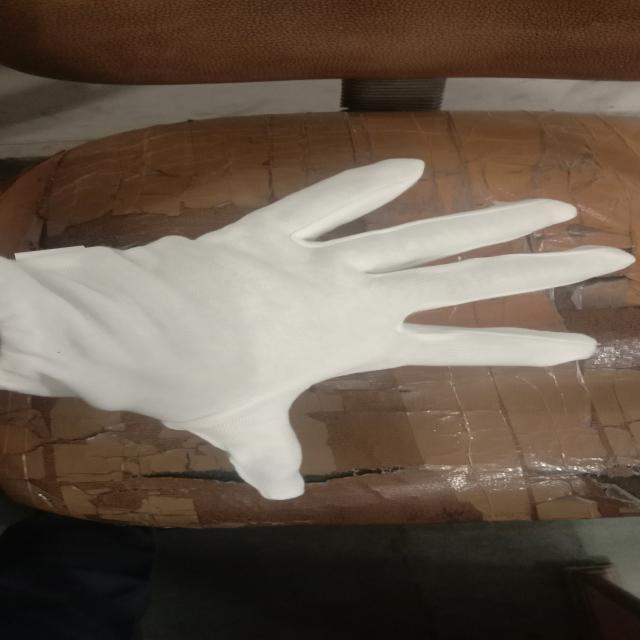glove_hand: (0, 153, 633, 507)
